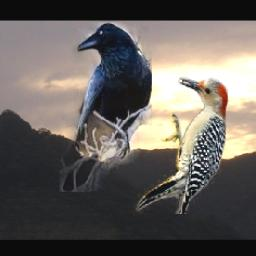Crow: (61, 22, 153, 192)
Woodpecker: (133, 72, 241, 214)
